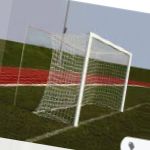goals: (35, 31, 133, 127)
